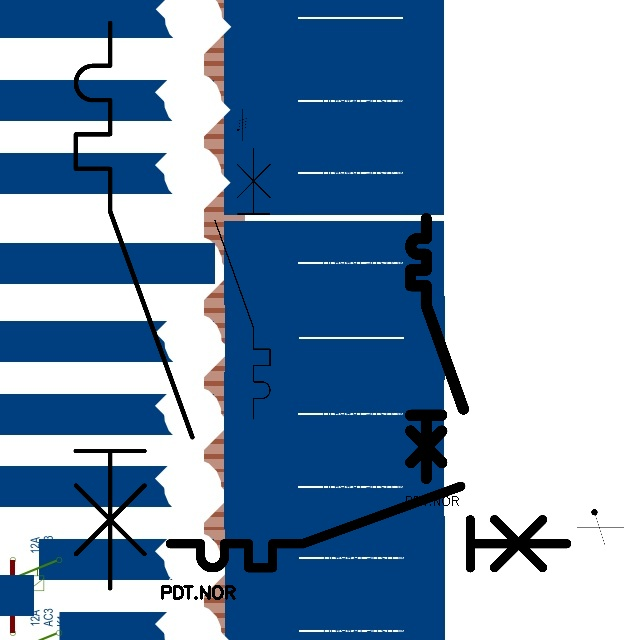interruptor_termomagnetico: (61, 8, 206, 603), (160, 476, 577, 578), (208, 141, 277, 425), (404, 212, 470, 484)
